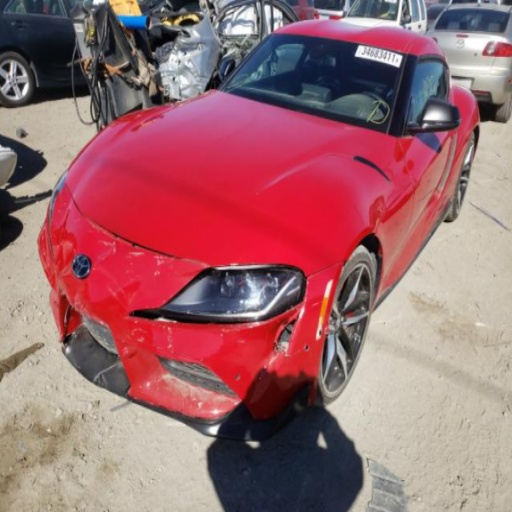dent: (42, 189, 77, 283)
scratch: (220, 324, 265, 343), (137, 254, 181, 272), (123, 322, 151, 347), (155, 327, 179, 355), (120, 247, 148, 260), (94, 242, 114, 259)
